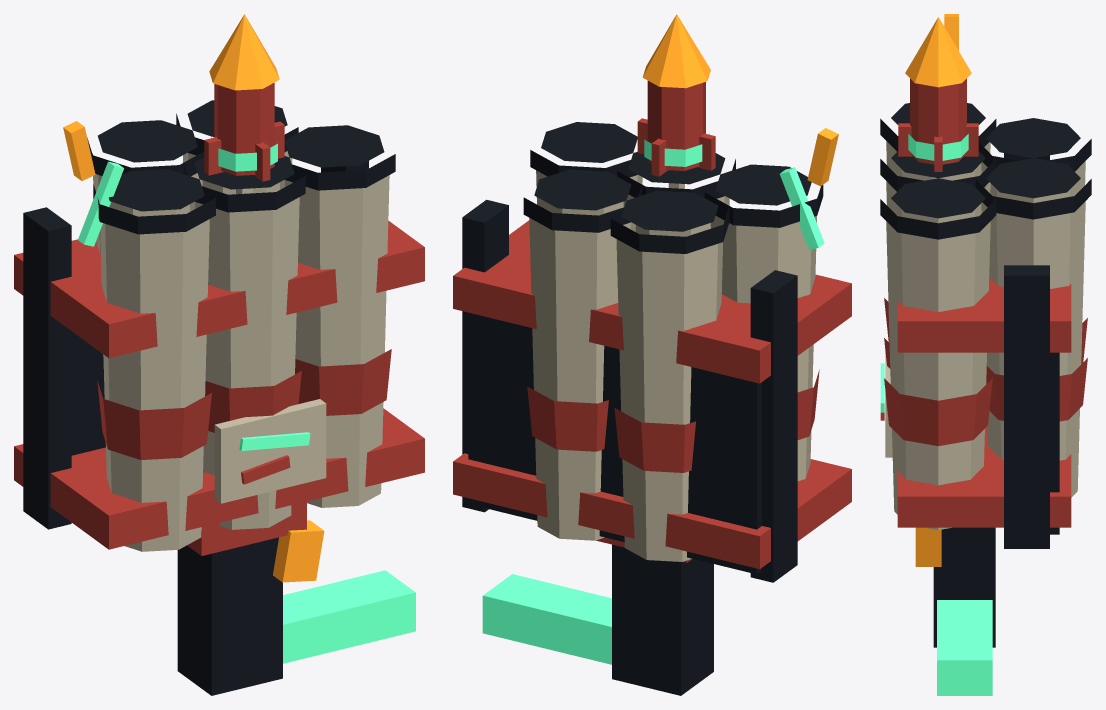
The model's file is firework-kit-v1-gnwUuBST.glb.
The picture shows the model from 3 angles, left to right: view 1: azimuth 30°, elevation 25°; view 2: azimuth 150°, elevation 25°; view 3: azimuth 270°, elevation 25°; orthographic projection. The views are drawn at different scales.
Parts seen in each view (by area): view 1: FWV1_TubeBundle_Bodies, FWV1_Grip, FWV1_LowerBundleBand, FWV1_LeftBrace, FWV1_UpperBundleBand, FWV1_TubeBundle_HazardBands, FWV1_TubeBundle_Openings, FWV1_SecondaryGrip, FWV1_PermitPlate, FWV1_TubeBundle_MouthCollars, FWV1_Rocket_Body, FWV1_Backplate (+9 smaller); view 2: FWV1_TubeBundle_Bodies, FWV1_Backplate, FWV1_UpperBundleBand, FWV1_TubeBundle_Openings, FWV1_Grip, FWV1_LowerBundleBand, FWV1_LeftBrace, FWV1_TubeBundle_HazardBands, FWV1_SecondaryGrip, FWV1_TubeBundle_MouthCollars, FWV1_RightBrace, FWV1_Rocket_Body (+5 smaller); view 3: FWV1_TubeBundle_Bodies, FWV1_RightBrace, FWV1_TubeBundle_Openings, FWV1_LowerBundleBand, FWV1_TubeBundle_HazardBands, FWV1_UpperBundleBand, FWV1_TubeBundle_MouthCollars, FWV1_SecondaryGrip, FWV1_Grip, FWV1_Rocket_Body, FWV1_Rocket_Nose, FWV1_Backplate (+5 smaller).
Part boxes in pixels (<box>): FWV1_TubeBundle_Bodies: <box>92,151,389,551</box>; FWV1_Grip: <box>177,537,282,695</box>; FWV1_LowerBundleBand: <box>14,408,424,549</box>; FWV1_LeftBrace: <box>23,207,71,529</box>; FWV1_UpperBundleBand: <box>14,220,424,358</box>; FWV1_TubeBundle_HazardBands: <box>97,349,391,459</box>; FWV1_TubeBundle_Openings: <box>98,100,384,211</box>; FWV1_SecondaryGrip: <box>283,570,415,663</box>; FWV1_PermitPlate: <box>214,399,326,503</box>; FWV1_TubeBundle_MouthCollars: <box>87,113,395,234</box>; FWV1_Rocket_Body: <box>214,82,274,175</box>; FWV1_Backplate: <box>71,331,105,455</box>; FWV1_TubeBundle_Bodies: <box>529,170,817,561</box>; FWV1_Backplate: <box>468,312,761,574</box>; FWV1_UpperBundleBand: <box>453,220,851,383</box>; FWV1_TubeBundle_Openings: <box>534,122,811,231</box>; FWV1_Grip: <box>612,544,713,695</box>; FWV1_LowerBundleBand: <box>453,453,851,569</box>; FWV1_LeftBrace: <box>750,270,797,582</box>; FWV1_TubeBundle_HazardBands: <box>527,369,819,472</box>; FWV1_SecondaryGrip: <box>482,574,611,664</box>; FWV1_TubeBundle_MouthCollars: <box>523,150,823,253</box>; FWV1_RightBrace: <box>462,199,508,512</box>; FWV1_Rocket_Body: <box>647,81,705,170</box>; FWV1_TubeBundle_Bodies: <box>886,141,1085,529</box>; FWV1_RightBrace: <box>1004,265,1049,548</box>; FWV1_TubeBundle_Openings: <box>891,103,1080,218</box>; FWV1_LowerBundleBand: <box>897,426,1071,527</box>; FWV1_TubeBundle_HazardBands: <box>884,298,1087,446</box>; FWV1_UpperBundleBand: <box>897,277,1071,352</box>; FWV1_TubeBundle_MouthCollars: <box>880,118,1091,239</box>; FWV1_SecondaryGrip: <box>937,600,992,695</box>; FWV1_Grip: <box>933,527,995,647</box>; FWV1_Rocket_Body: <box>910,78,966,164</box>; FWV1_Rocket_Nose: <box>905,17,971,87</box>; FWV1_Backplate: <box>1050,352,1059,534</box>.
Size of the model in its own units: 1.1 by 2.07 by 0.644.
